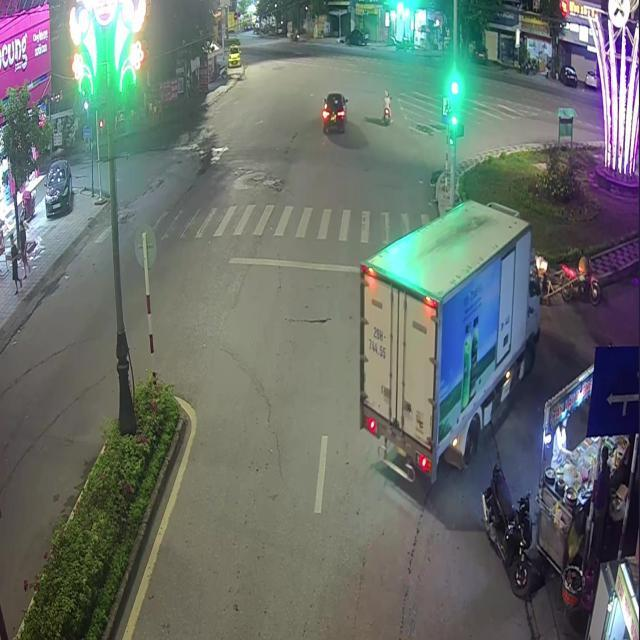car: (359, 200, 540, 481), (320, 92, 346, 133)
green_light: (450, 92, 457, 125)
stop_line: (226, 256, 440, 277)
